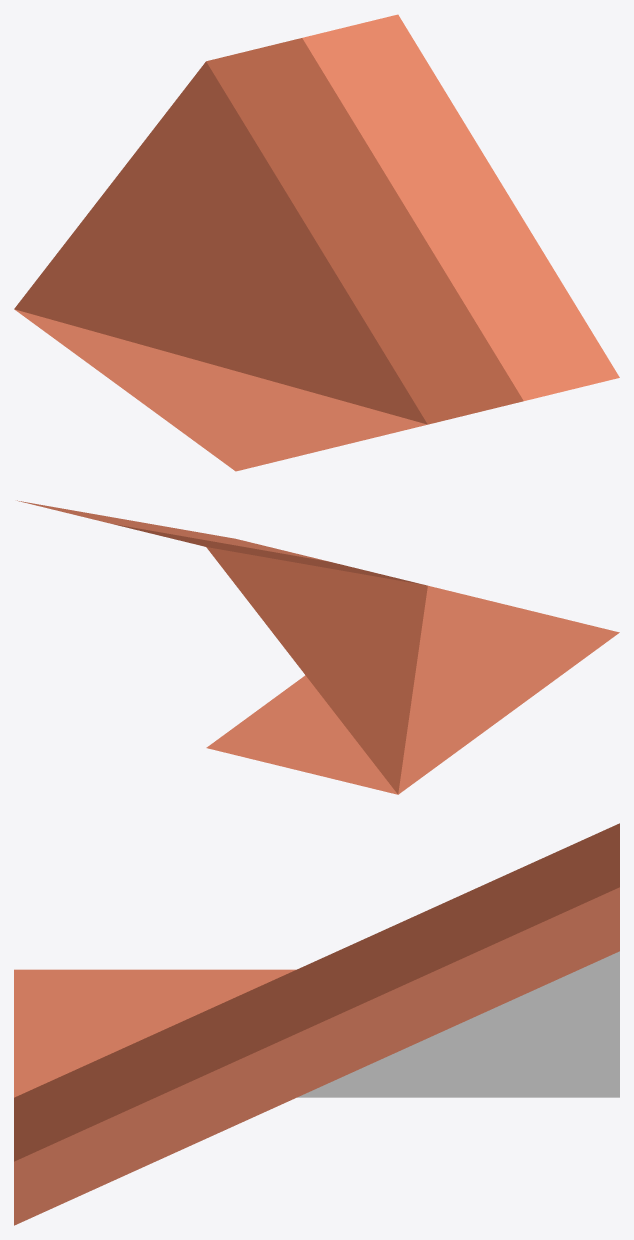
The model's file is terrain_sideEnd.glb.
3 views of the same model, one above another, from view 1: azimuth 30°, elevation 25°; view 2: azimuth 150°, elevation 25°; view 3: azimuth 270°, elevation 25° (orthographic). The views are drawn at different scales.
Parts seen in each view (by area): view 1: terrain_sideEnd; view 2: terrain_sideEnd; view 3: terrain_sideEnd.
Boxes of the visible parts, x1,y1,x2,y2 form: terrain_sideEnd: [14, 14, 619, 471]; terrain_sideEnd: [17, 500, 619, 794]; terrain_sideEnd: [14, 823, 619, 1225].
Bounding box in the file's own units: 1 × 0.5 × 1.
